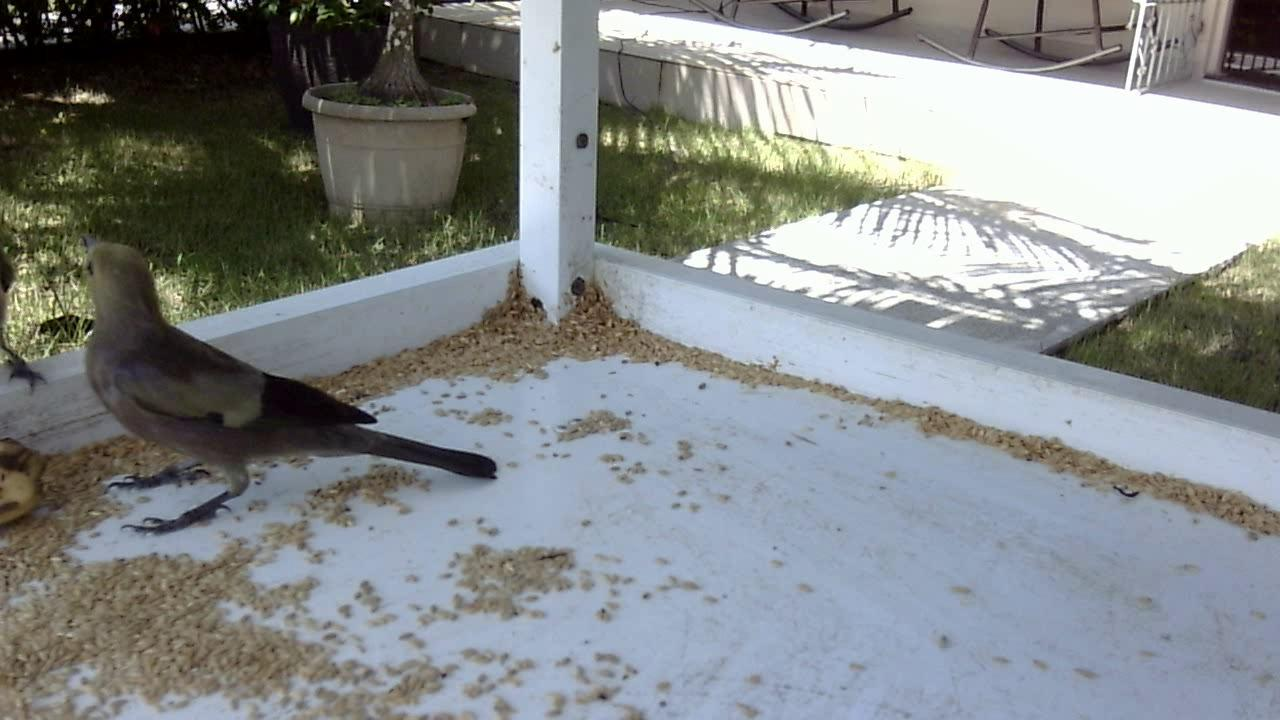sanhaco_do_coqueiro: (74, 226, 499, 543)
